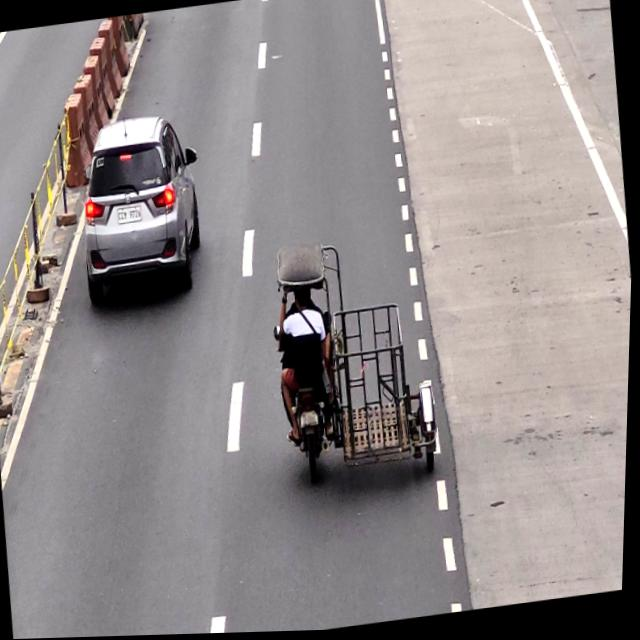Car: (73, 115, 211, 302)
License-Plate: (115, 206, 144, 225), (300, 412, 321, 428)
Tricycle: (264, 230, 447, 484)
